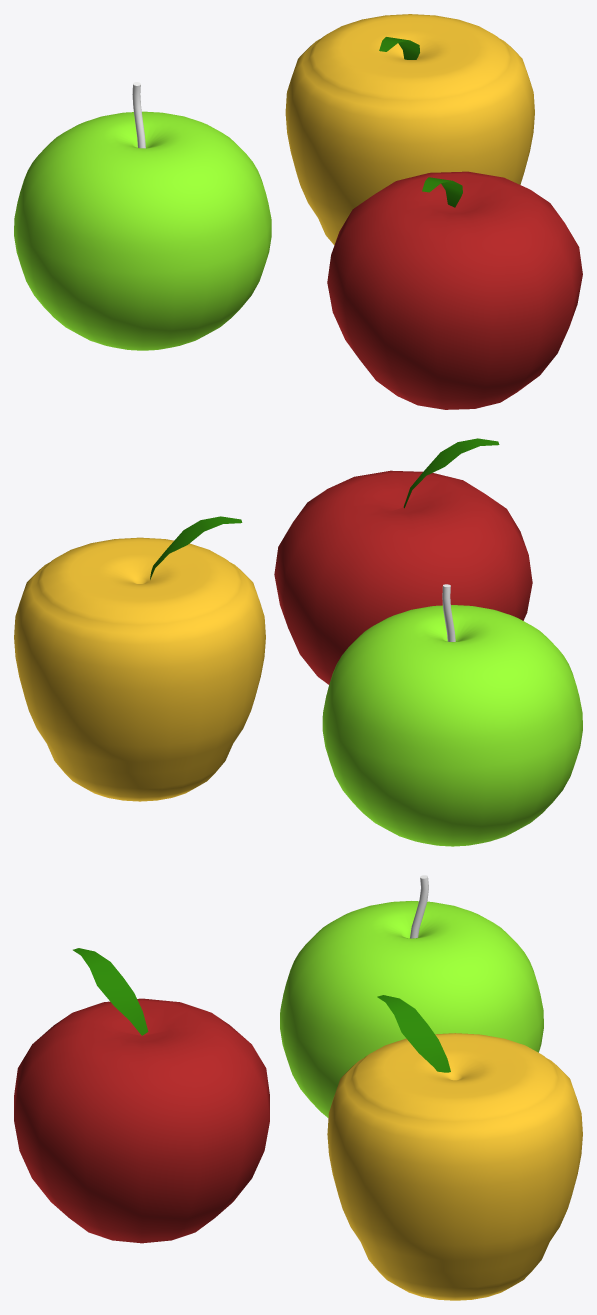
The model's file is apples.fbx.
3 renders of one model, top to bottom at view 1: azimuth 30°, elevation 25°; view 2: azimuth 150°, elevation 25°; view 3: azimuth 270°, elevation 25°, orthographic. The views are drawn at different scales.
Parts seen in each view (by area): view 1: apple1, apples1, apple_half2, apple_half1, leaf1, stem1, leaf; view 2: apples1, apple1, apple_half2, apple_half1, leaf1, leaf; view 3: apples1, apple_half1, apple1, apple_half2, leaf1, leaf, stem1.
Part boxes in pixels (x1,y1,x2,y2): apple1: [14, 111, 271, 350]; apples1: [285, 14, 534, 245]; apple_half2: [327, 177, 517, 409]; apple_half1: [413, 171, 582, 405]; leaf1: [422, 177, 462, 207]; stem1: [132, 82, 145, 148]; leaf: [379, 37, 419, 59]; apples1: [14, 537, 265, 801]; apple1: [322, 605, 582, 846]; apple_half2: [340, 476, 532, 653]; apple_half1: [274, 470, 444, 684]; leaf1: [403, 438, 499, 508]; leaf: [150, 516, 242, 579]; apples1: [327, 1033, 582, 1300]; apple_half1: [14, 1026, 269, 1243]; apple1: [280, 901, 543, 1117]; apple_half2: [14, 998, 269, 1106]; leaf1: [73, 948, 148, 1035]; leaf: [377, 995, 450, 1072]; stem1: [410, 875, 428, 938].
Bounding box in the file's own units: 0.1621 × 0.0751 × 0.1535.
